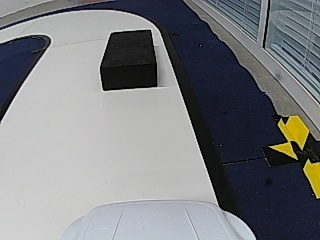block: (101, 30, 157, 91)
